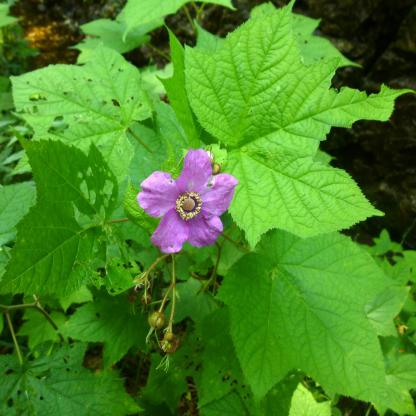raspberry leaf: (181, 12, 416, 247), (222, 230, 414, 416), (0, 125, 147, 306)
